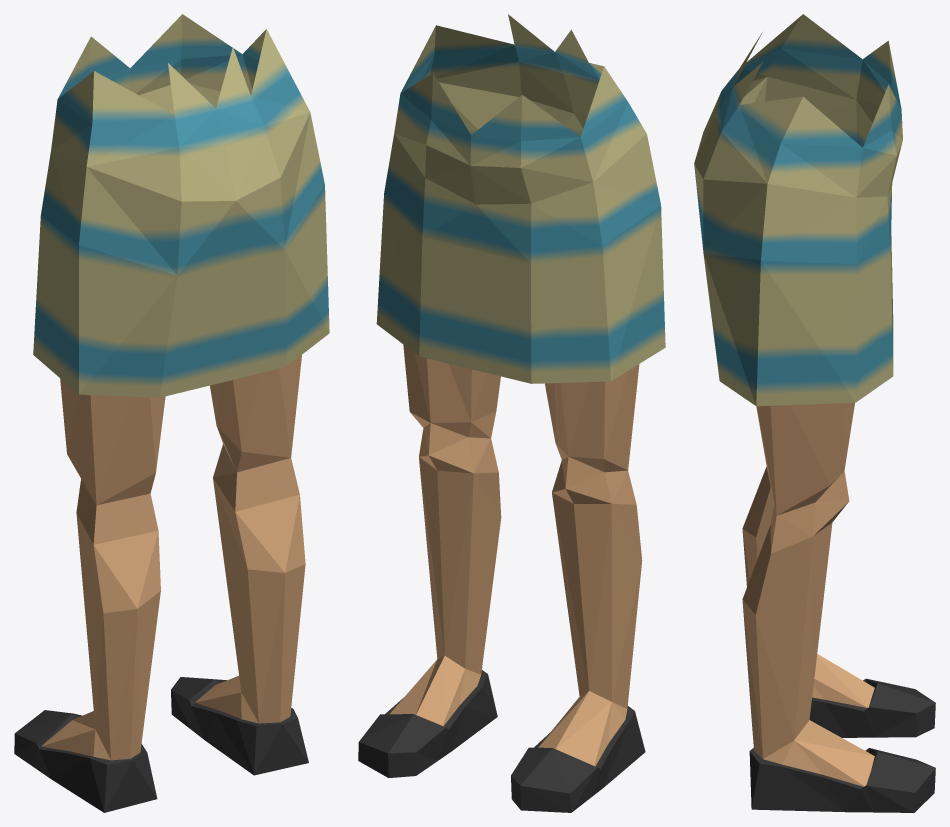
The model's file is Mother_02_02_B_Legs.obj.
3 renders of one model, left to right at view 1: azimuth 30°, elevation 25°; view 2: azimuth 150°, elevation 25°; view 3: azimuth 270°, elevation 25°, orthographic. The views are drawn at different scales.
Parts seen in each view (by area): view 1: Mother_02_02_B_Legs; view 2: Mother_02_02_B_Legs; view 3: Mother_02_02_B_Legs.
Part boxes in pixels (x1,y1,x2,y2): Mother_02_02_B_Legs: [14, 14, 329, 812]; Mother_02_02_B_Legs: [358, 14, 665, 812]; Mother_02_02_B_Legs: [694, 14, 935, 812].
Bounding box in the file's own units: 0.3852 × 1.07 × 0.3279.
1 material, 1 textured.
